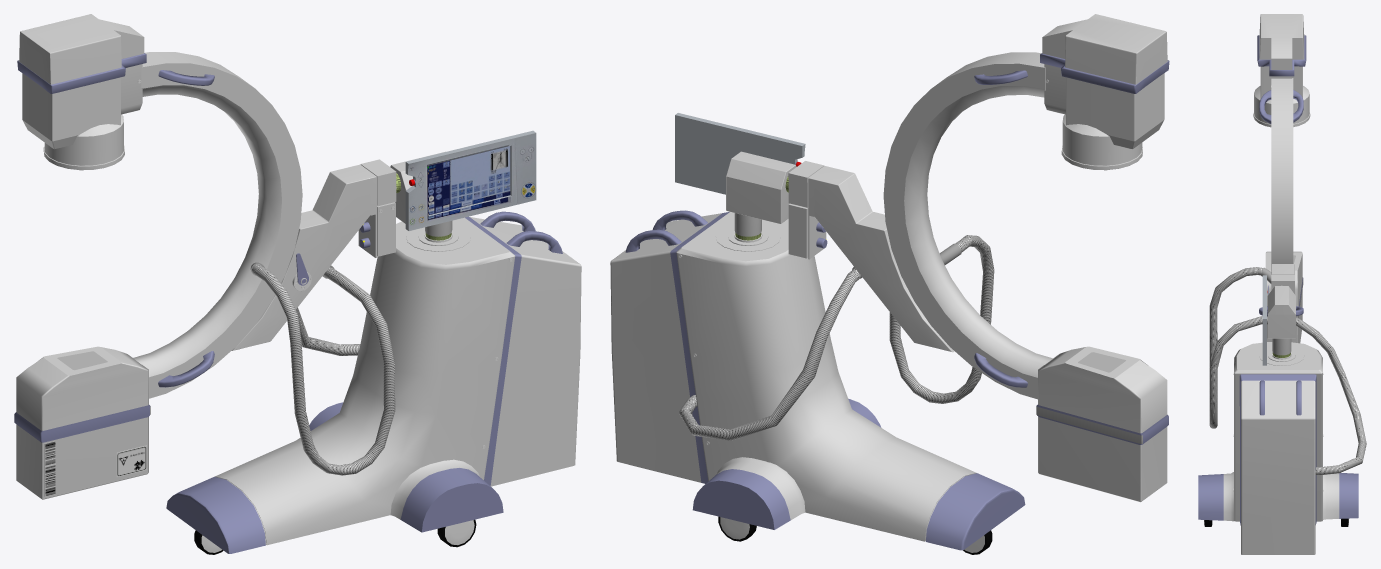
Rendered from C_ARM.glb.
3 views of the same model, side by side, from view 1: azimuth 30°, elevation 25°; view 2: azimuth 150°, elevation 25°; view 3: azimuth 270°, elevation 25° (orthographic). The views are drawn at different scales.
Visible parts, largest first — view 1: c_arm42, c_arm45, c_arm.001, c_arm3, c_arm1, c_arm49, c_arm50, c_arm9, c_arm41, c_arm2, c_arm34, c_arm47 (+4 smaller); view 2: c_arm42, c_arm.001, c_arm45, c_arm3, c_arm1, c_arm50, c_arm9, c_arm39, c_arm49, c_arm33, c_arm2, c_arm34 (+2 smaller); view 3: c_arm45, c_arm.001, c_arm9, c_arm42, c_arm1, c_arm41, c_arm39, c_arm33, c_arm3, c_arm34, c_arm2, c_arm49 (+4 smaller).
Part boxes in pixels (x1,y1,x2,y2): c_arm42: [166, 217, 515, 553]; c_arm45: [465, 216, 581, 486]; c_arm.001: [133, 52, 302, 398]; c_arm3: [14, 346, 150, 499]; c_arm1: [17, 14, 146, 149]; c_arm49: [405, 130, 536, 230]; c_arm50: [231, 164, 376, 350]; c_arm9: [252, 264, 395, 475]; c_arm41: [390, 459, 503, 532]; c_arm2: [43, 114, 124, 170]; c_arm34: [406, 221, 470, 251]; c_arm47: [377, 202, 395, 256]; c_arm42: [676, 212, 1025, 550]; c_arm.001: [883, 52, 1053, 399]; c_arm45: [610, 212, 729, 483]; c_arm3: [1036, 346, 1168, 502]; c_arm1: [1040, 14, 1169, 148]; c_arm50: [808, 166, 954, 352]; c_arm9: [679, 235, 994, 440]; c_arm39: [692, 457, 805, 529]; c_arm49: [675, 113, 805, 194]; c_arm33: [726, 151, 796, 223]; c_arm2: [1061, 114, 1142, 170]; c_arm34: [715, 213, 780, 251]; c_arm45: [1239, 374, 1316, 554]; c_arm.001: [1271, 78, 1293, 264]; c_arm9: [1209, 267, 1366, 474]; c_arm42: [1234, 342, 1322, 521]; c_arm1: [1257, 14, 1306, 98]; c_arm41: [1198, 472, 1233, 521]; c_arm39: [1323, 473, 1358, 519]; c_arm33: [1267, 286, 1295, 338]; c_arm3: [1265, 251, 1303, 343]; c_arm34: [1259, 338, 1304, 365]; c_arm2: [1253, 86, 1310, 127]; c_arm49: [1262, 275, 1266, 365].
Size of what is drawn, in the model's own units: 1.49 by 1.51 by 0.5953.
Materials: 14 (4 with a texture image).
